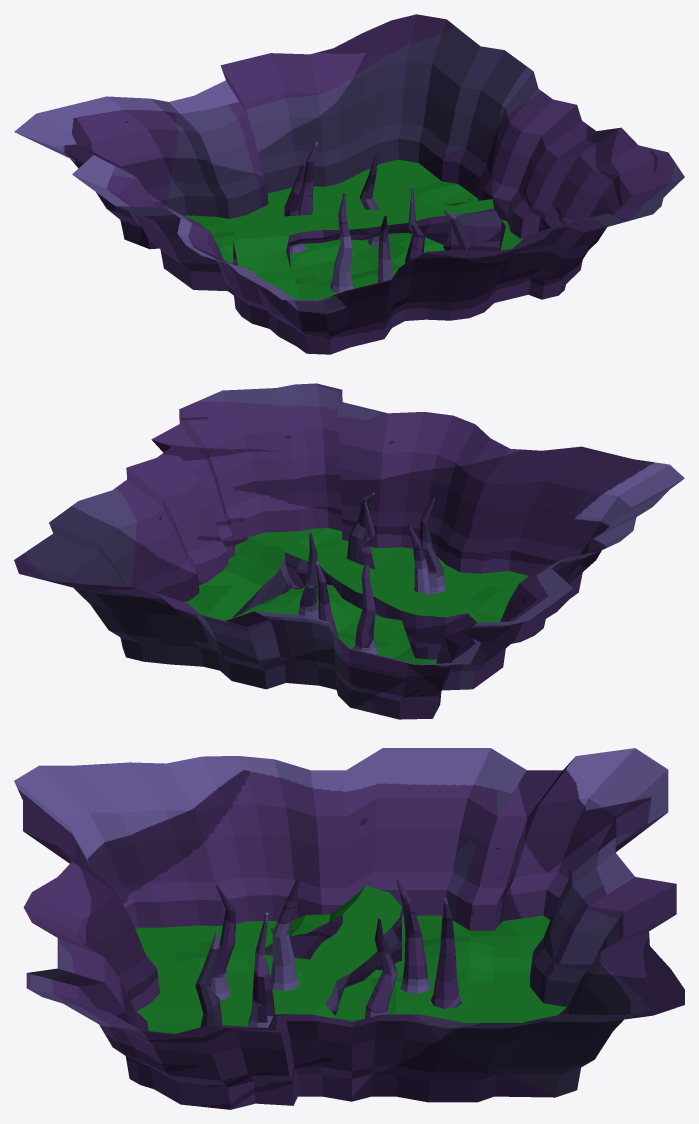
The model's file is Mapas Batalla Base.fbx.
3 renders of one model, top to bottom at view 1: azimuth 30°, elevation 25°; view 2: azimuth 150°, elevation 25°; view 3: azimuth 270°, elevation 25°, orthographic. The views are drawn at different scales.
Parts seen in each view (by area): view 1: Plane; view 2: Plane; view 3: Plane.
Part boxes in pixels (<box>): Plane: <box>14,14,684,354</box>; Plane: <box>14,383,684,719</box>; Plane: <box>14,748,684,1109</box>.
Bounding box in the file's own units: 51659 × 51262 × 10811.
Materials: 2 (1 with a texture image).
